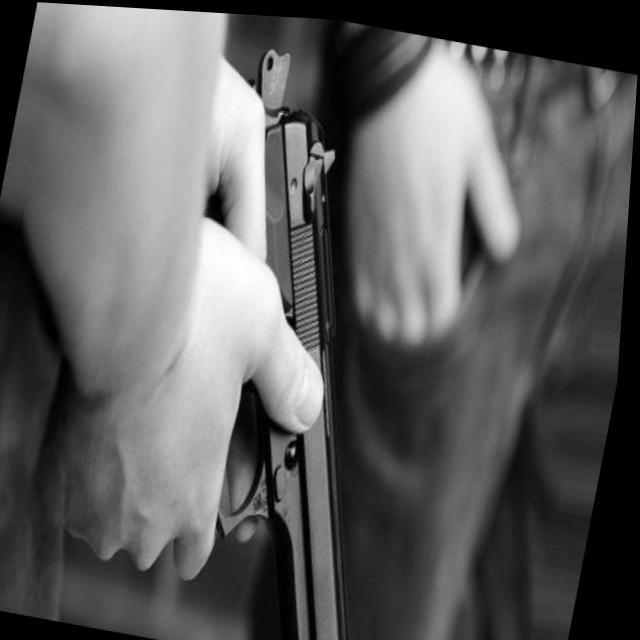weapon: (34, 3, 487, 640)
